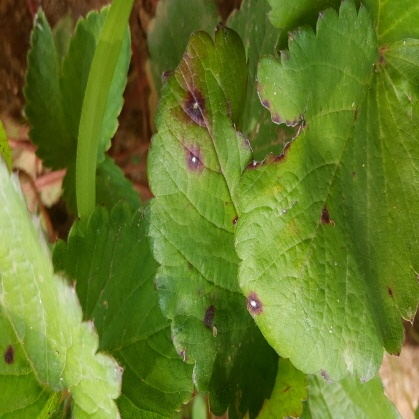Leaf_Spot: (233, 34, 418, 418), (144, 0, 281, 395), (0, 0, 127, 401)
